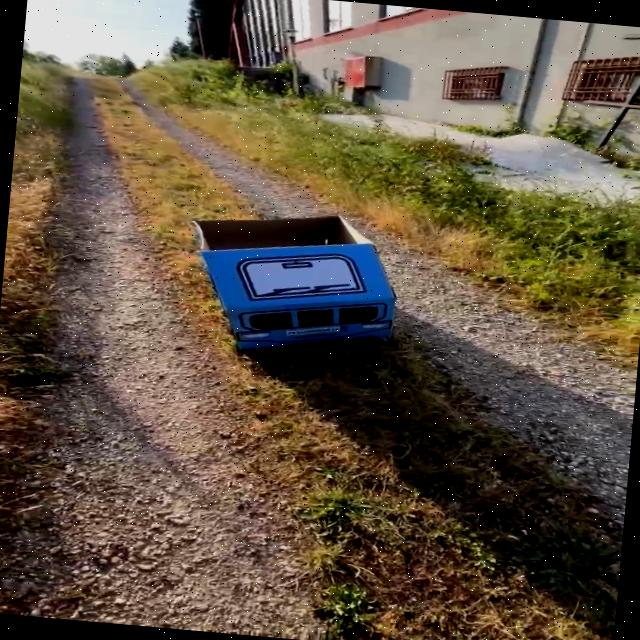blue_car: (167, 181, 429, 381)
